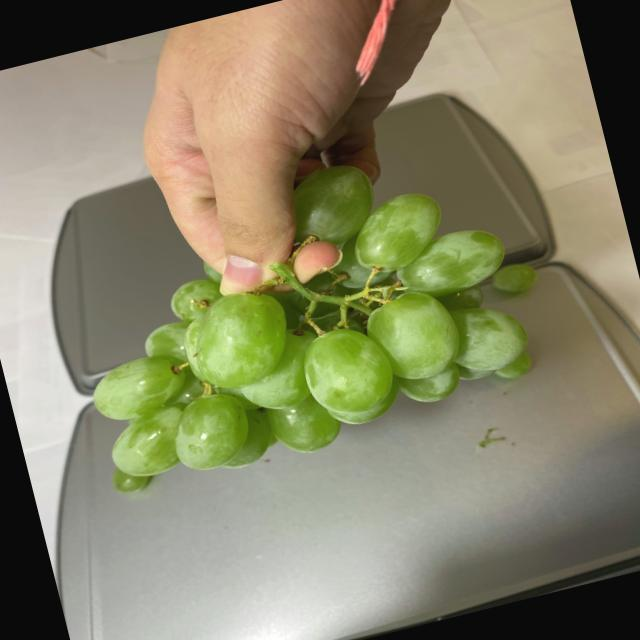grapes: (49, 126, 559, 482)
